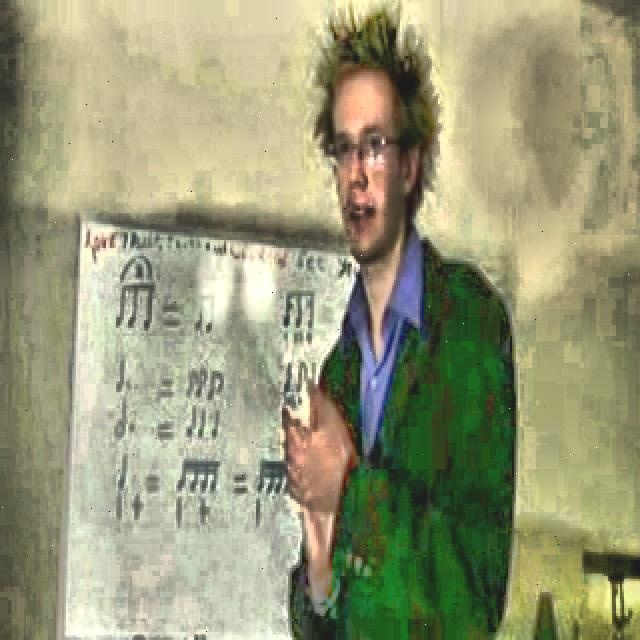F: (277, 6, 526, 640)
